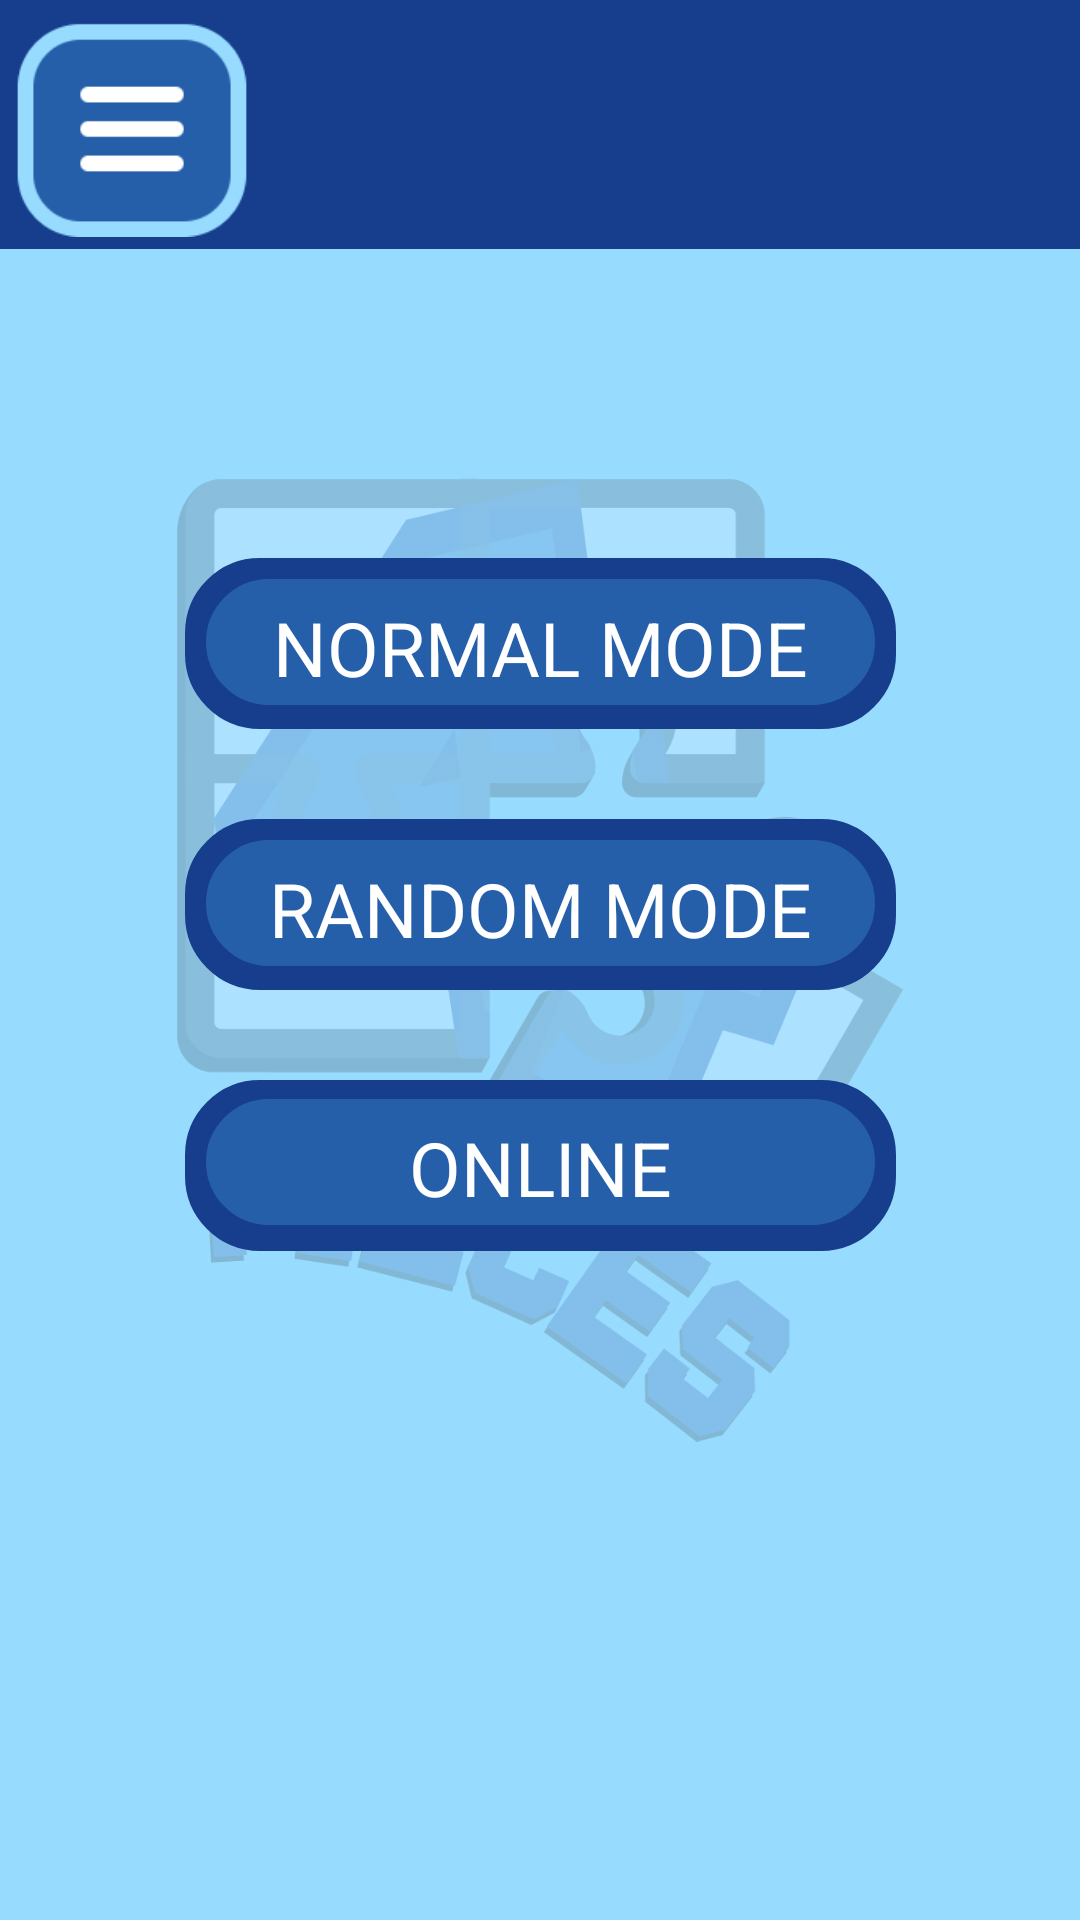

Locate icon controls on the screen. Image size 1080x1920, boxes as box=[x1, y1, x2, y2].
menubtn: box=[17, 24, 247, 237]
